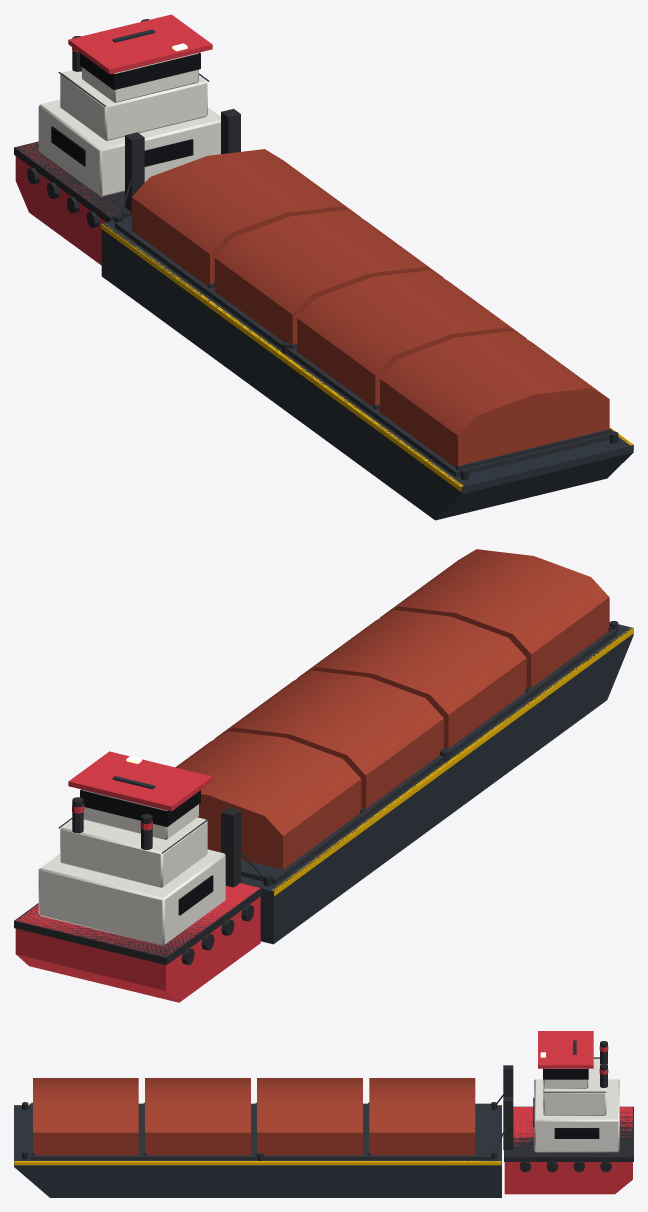
The model's file is river_barge.glb.
3 renders of one model, top to bottom at view 1: azimuth 30°, elevation 25°; view 2: azimuth 150°, elevation 25°; view 3: azimuth 270°, elevation 25°, orthographic. The views are drawn at different scales.
Visible parts, largest first — view 1: body; view 2: body; view 3: body.
Part boxes in pixels (x1,y1,x2,y2): body: [14, 14, 633, 520]; body: [14, 549, 633, 1002]; body: [14, 1031, 633, 1197].
Size of the model in its own units: 302 by 302 by 1382.
